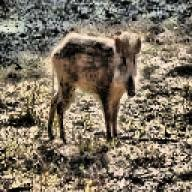boar: (45, 27, 143, 144)
